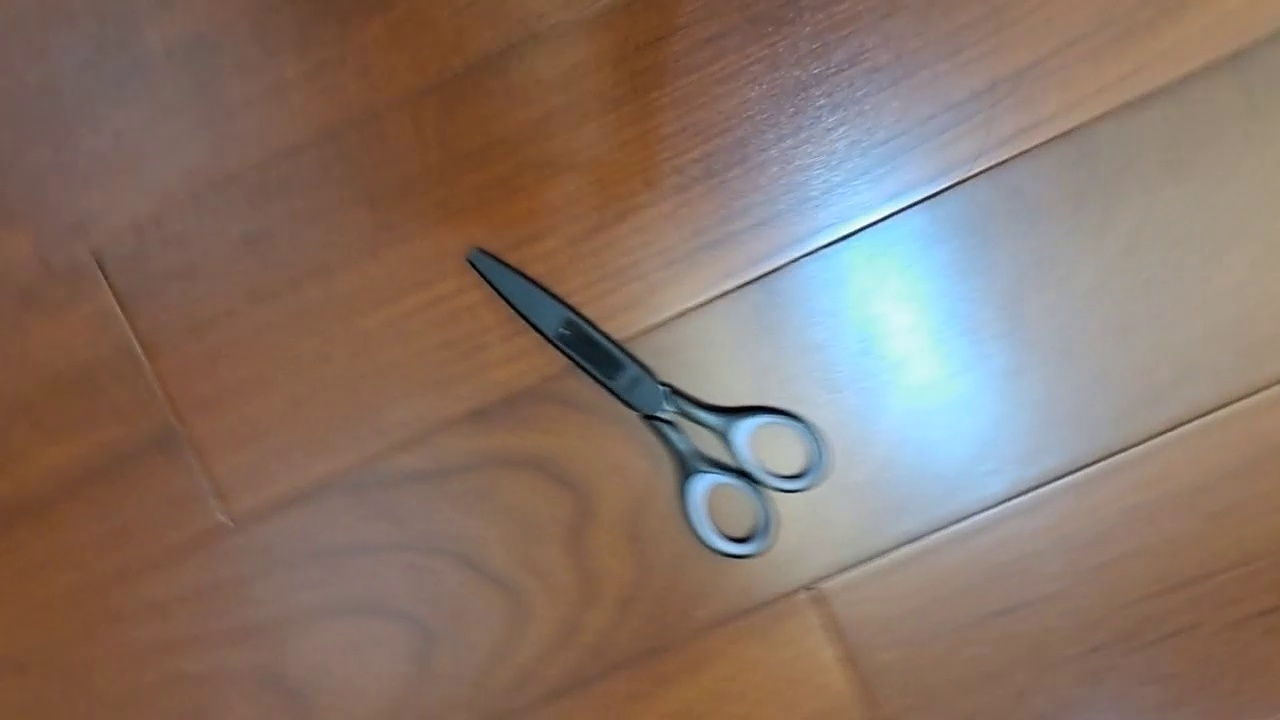scissors: (463, 244, 834, 559)
